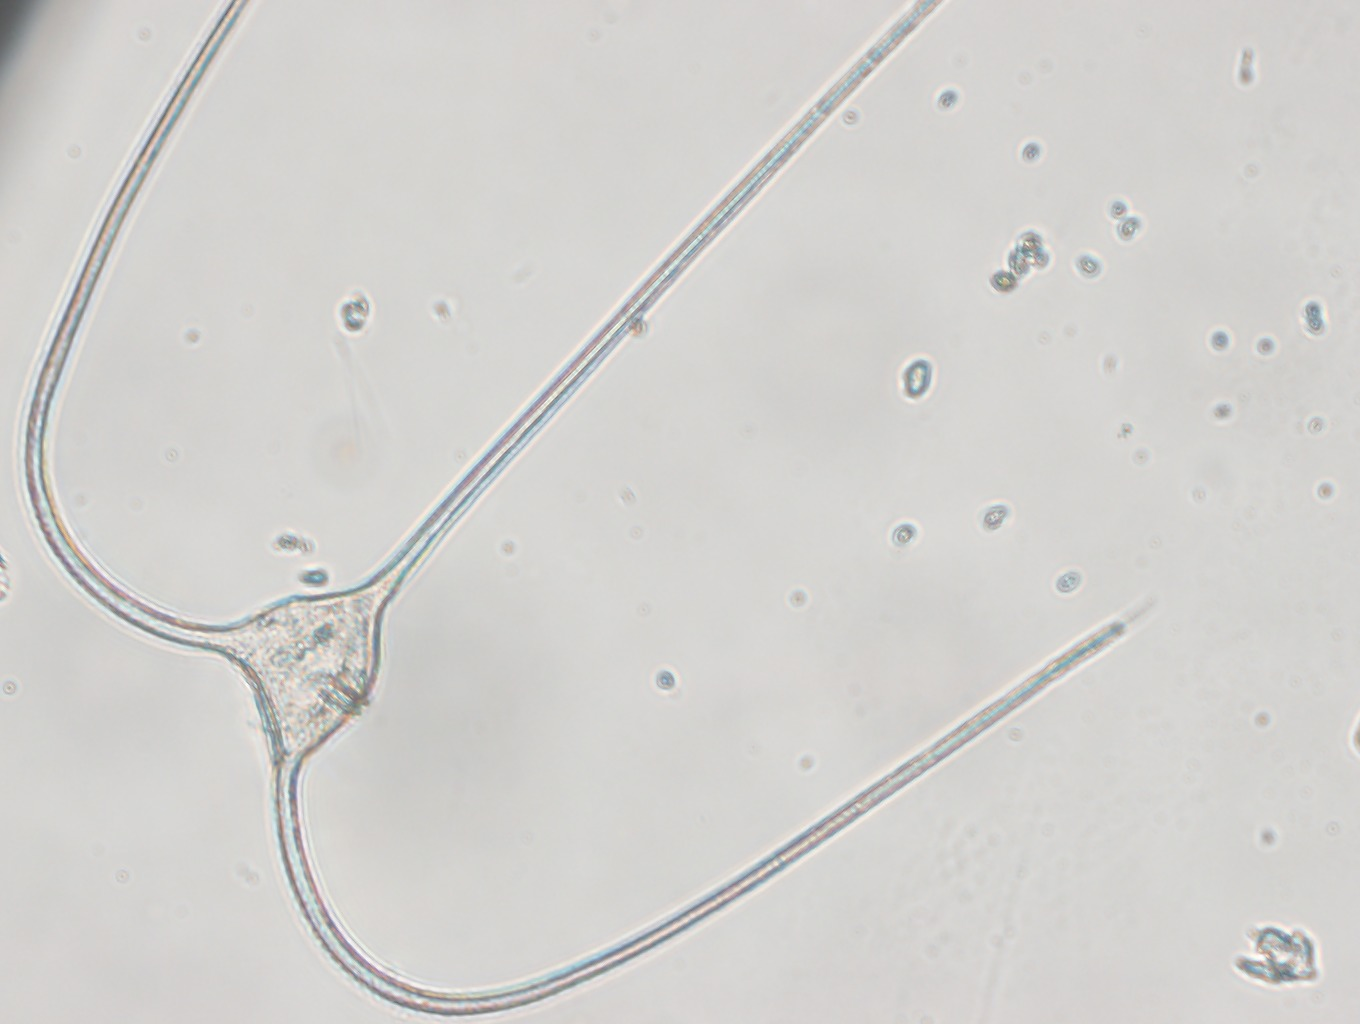ceratium trichoceros: (14, 1, 1142, 1014)
